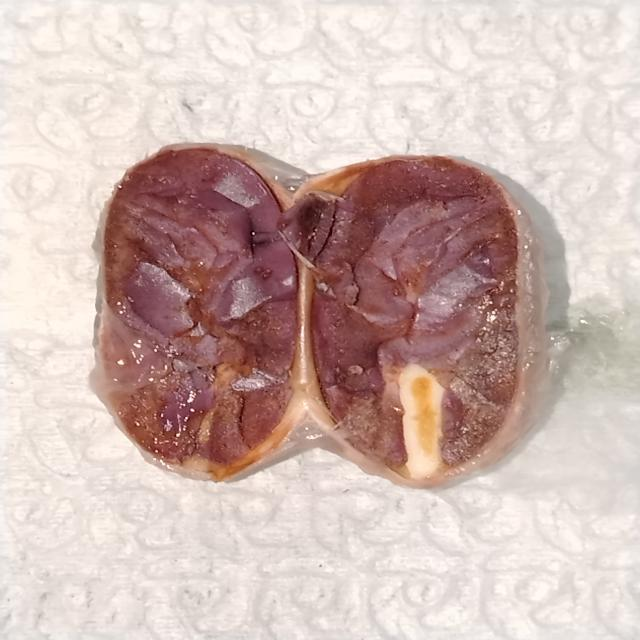Forastero: (311, 158, 523, 479), (97, 147, 300, 472)
